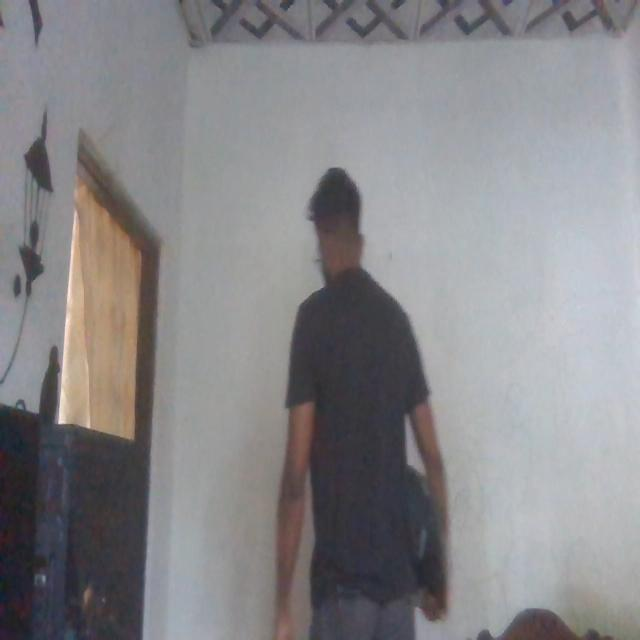Person: (275, 154, 441, 640)
